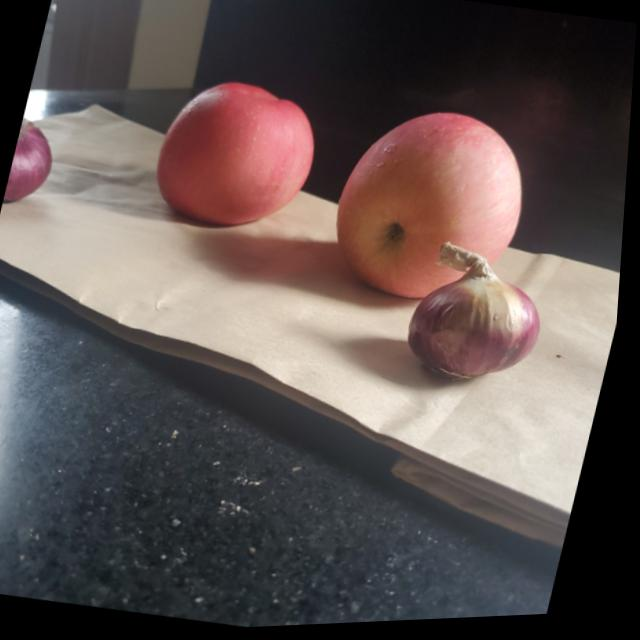apple: (322, 94, 548, 319), (143, 68, 332, 243)
onion: (398, 238, 561, 400), (4, 113, 64, 212)
